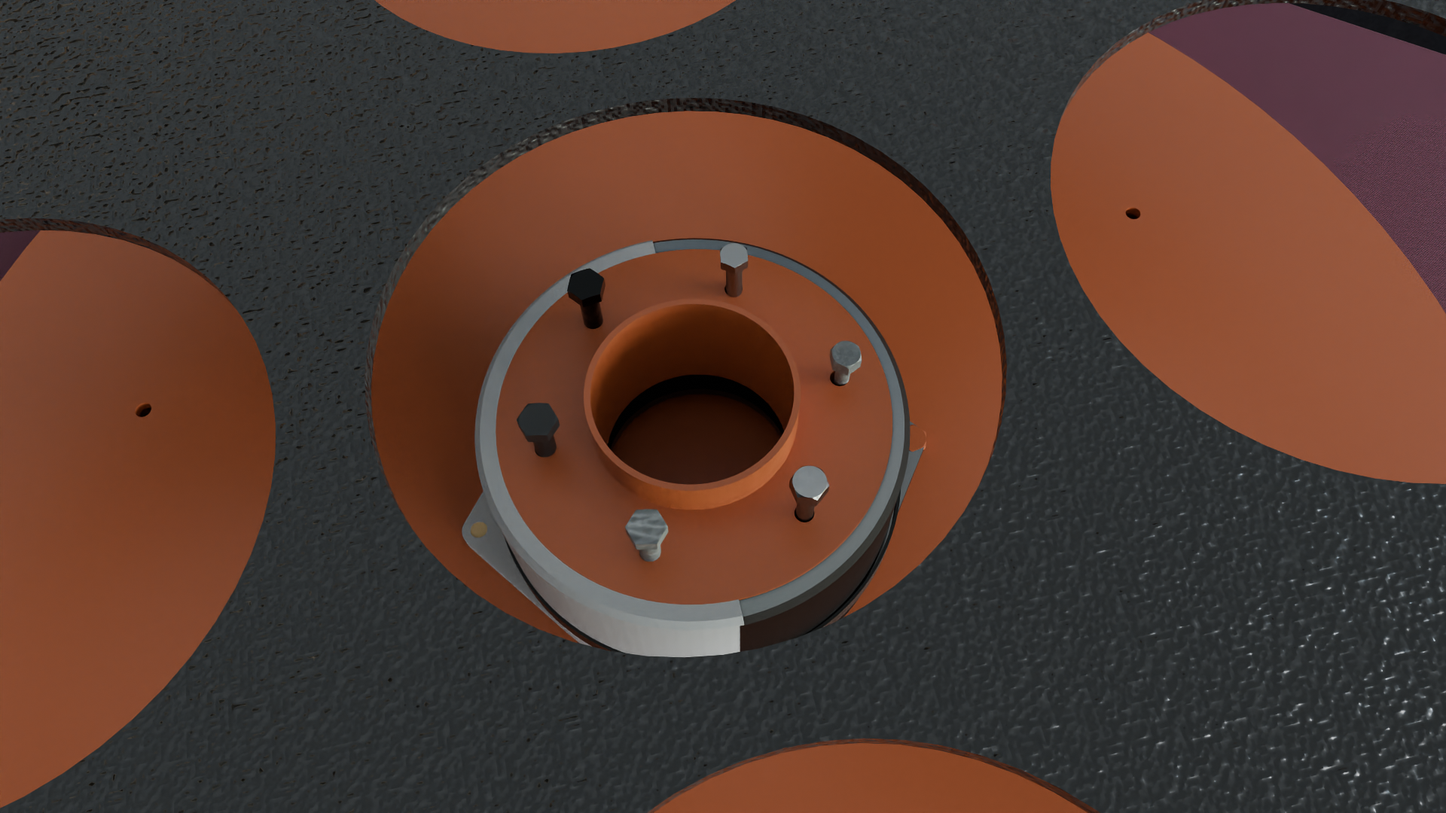bolt: (625, 509, 668, 544), (790, 466, 829, 501), (517, 403, 558, 436), (567, 268, 604, 300), (831, 341, 862, 370), (720, 242, 748, 269)
